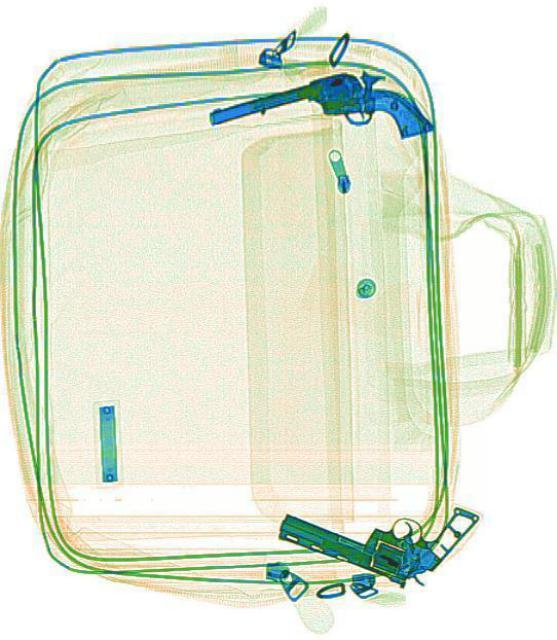Gun: (205, 49, 432, 189), (273, 448, 478, 600)
